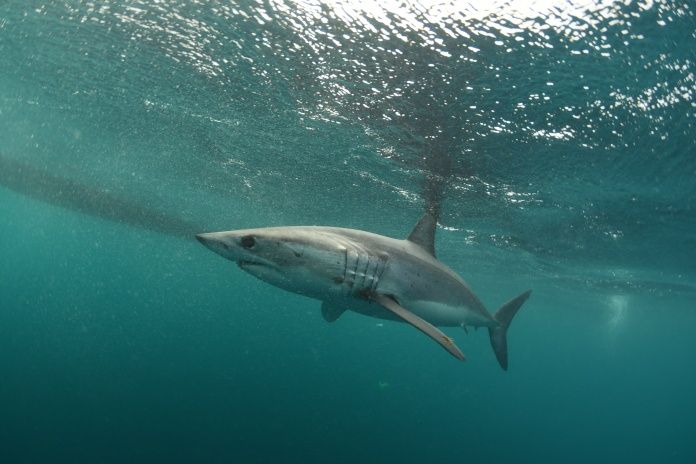Mako: (190, 201, 541, 381)
